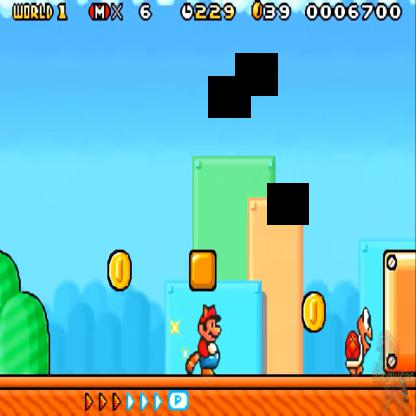Mario: (183, 301, 224, 381)
koopa: (342, 307, 375, 372)
moneda: (106, 250, 133, 292), (300, 290, 326, 330), (252, 0, 262, 22)
